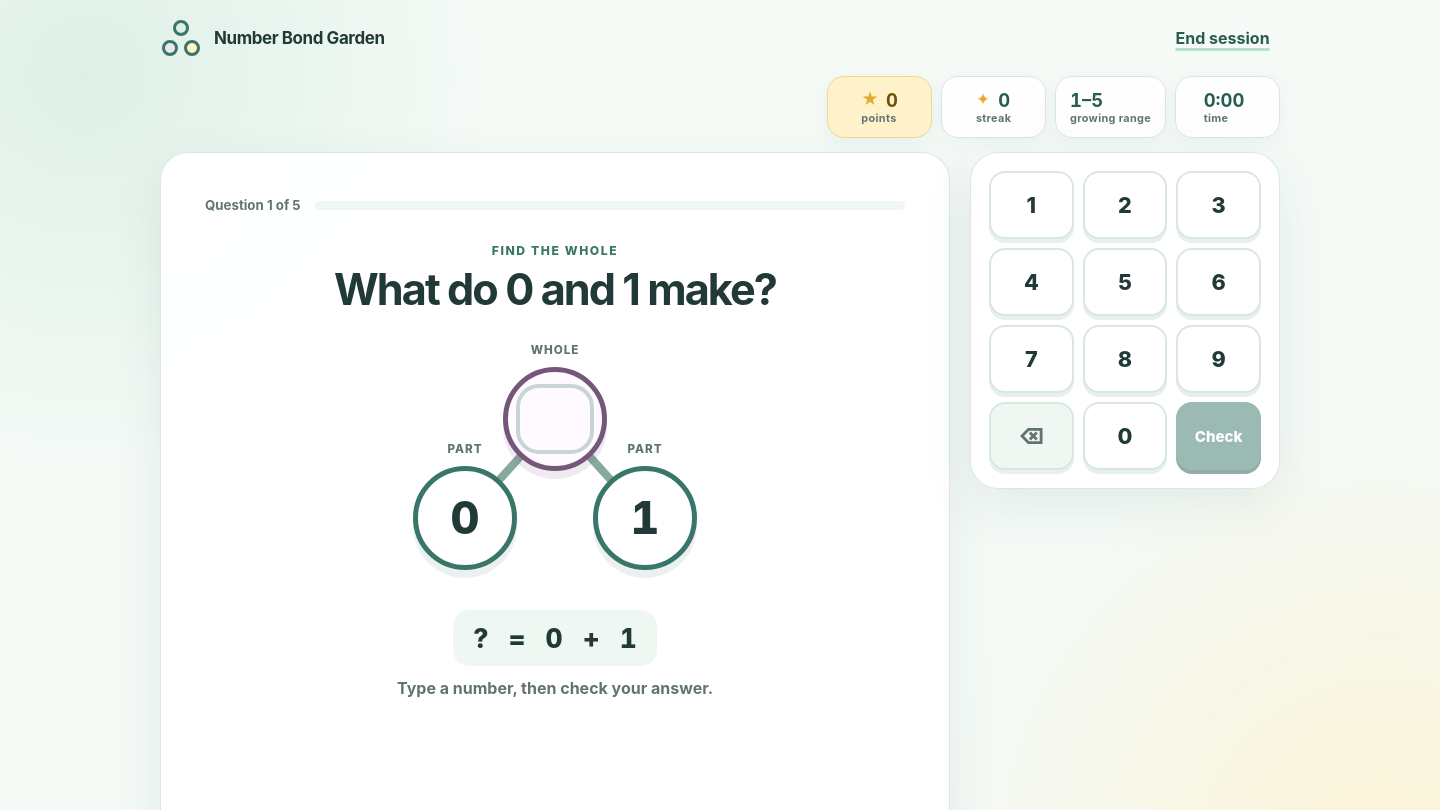
PracticeScreen › accepts keyboard answers and reports first-attempt success
Type "1" into the field named "Missing whole" at (555, 419), box [521, 389, 589, 449]
Then press Enter
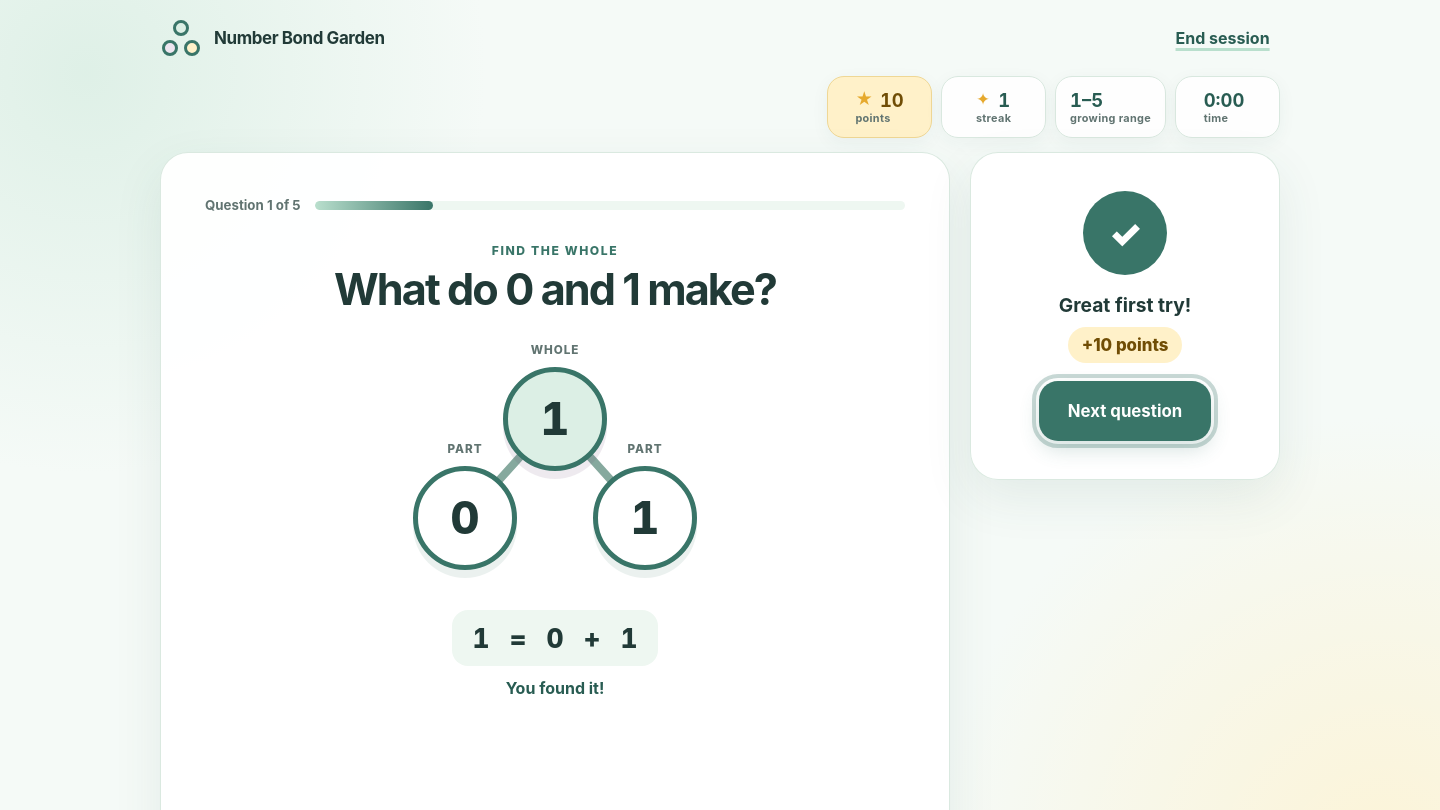
Result: the text "You found it!" is shown at [506, 678, 604, 698]
